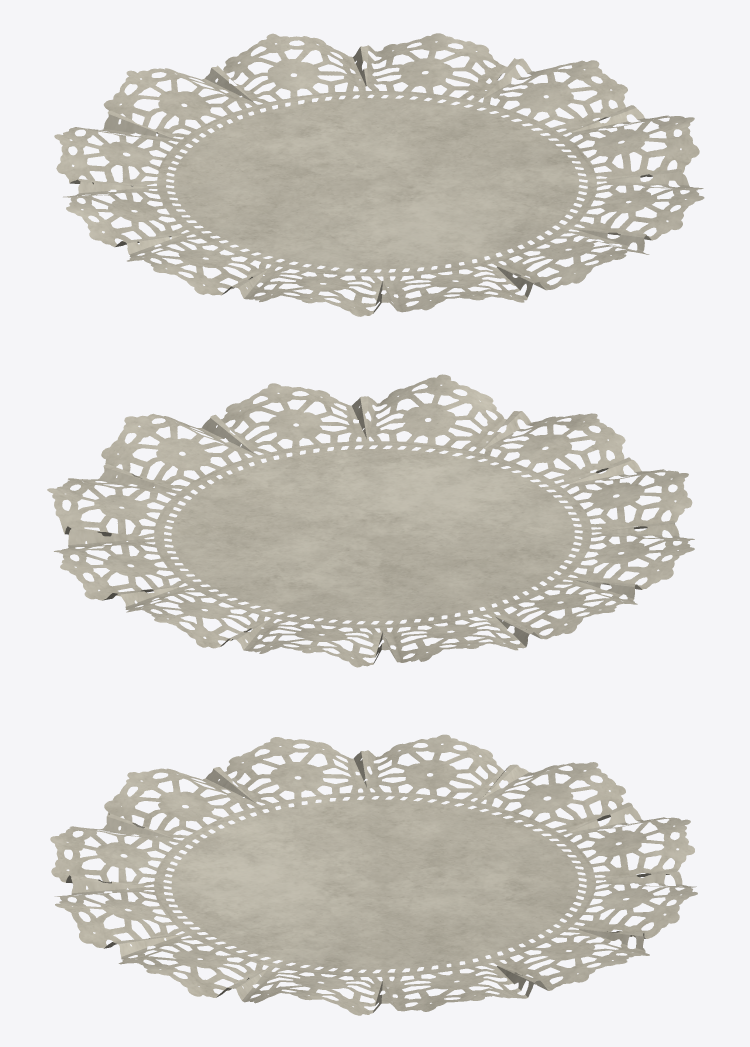
File: doily.glb
3 views of the same model, one above another, from view 1: azimuth 30°, elevation 25°; view 2: azimuth 150°, elevation 25°; view 3: azimuth 270°, elevation 25° (orthographic).
Parts seen in each view (by area): view 1: doily.001; view 2: doily.001; view 3: doily.001.
Part boxes in pixels (x1,y1,x2,y2): doily.001: (54, 33, 704, 316); doily.001: (47, 374, 694, 667); doily.001: (50, 734, 697, 1015).
Size of the model in its own units: 0.3144 by 0.0132 by 0.3144.
Materials: 1 (1 with a texture image).
